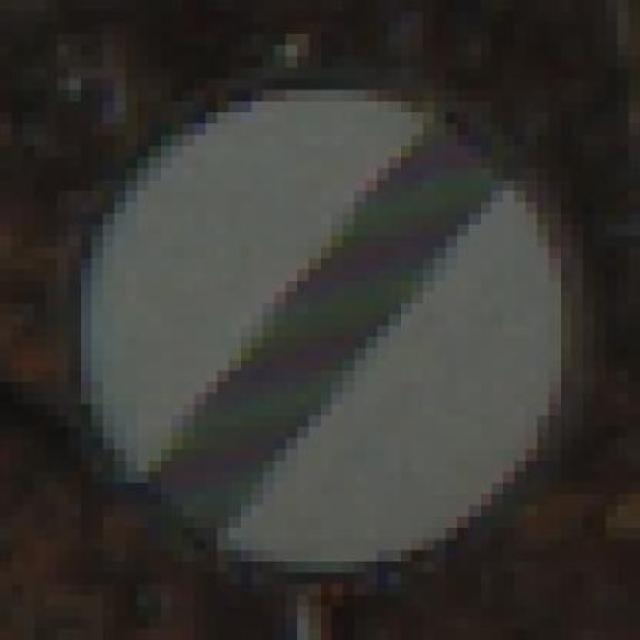End of all speed and passing limits: (46, 67, 594, 584)
